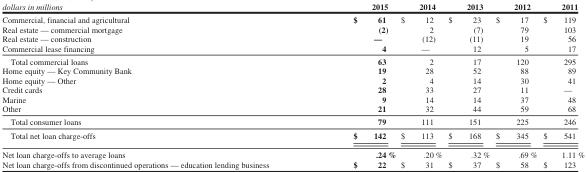table: (1, 1, 584, 168)
table column: (1, 1, 310, 168), (310, 1, 397, 168), (444, 1, 492, 168), (397, 1, 444, 168), (492, 1, 539, 168), (539, 1, 584, 168)
table column header: (1, 1, 584, 12)
table row: (1, 128, 584, 144), (1, 144, 584, 159), (1, 114, 584, 128), (1, 12, 584, 24), (1, 42, 584, 54), (1, 1, 584, 12), (1, 54, 584, 65), (1, 103, 584, 114), (1, 65, 584, 75), (1, 84, 584, 94), (1, 24, 584, 33), (1, 33, 584, 42), (1, 75, 584, 84), (1, 94, 584, 103), (1, 159, 584, 168)
